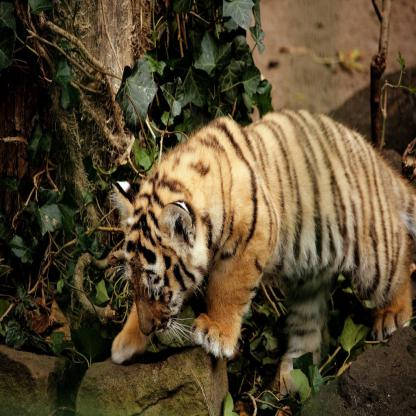Tiger: (111, 112, 415, 394)
